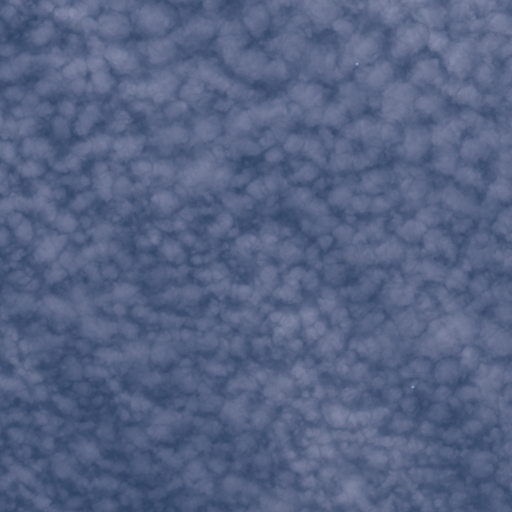Iceberg: (411, 385, 414, 388), (356, 63, 357, 64)
